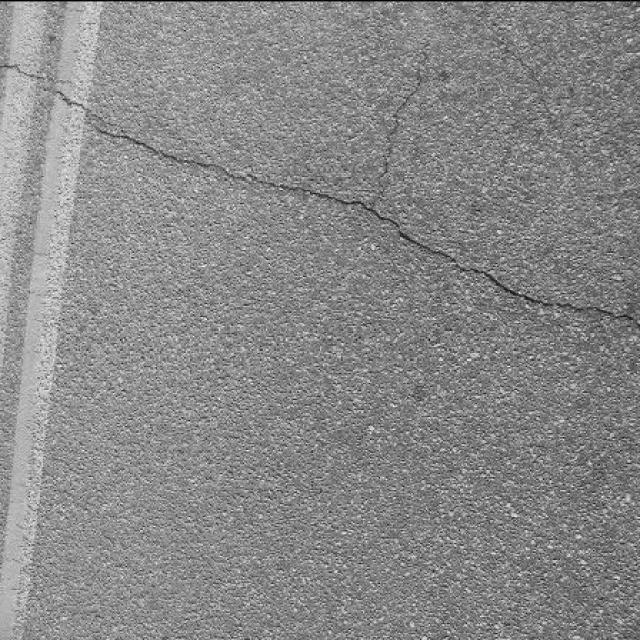Crack: (2, 36, 639, 320), (493, 20, 559, 130)
